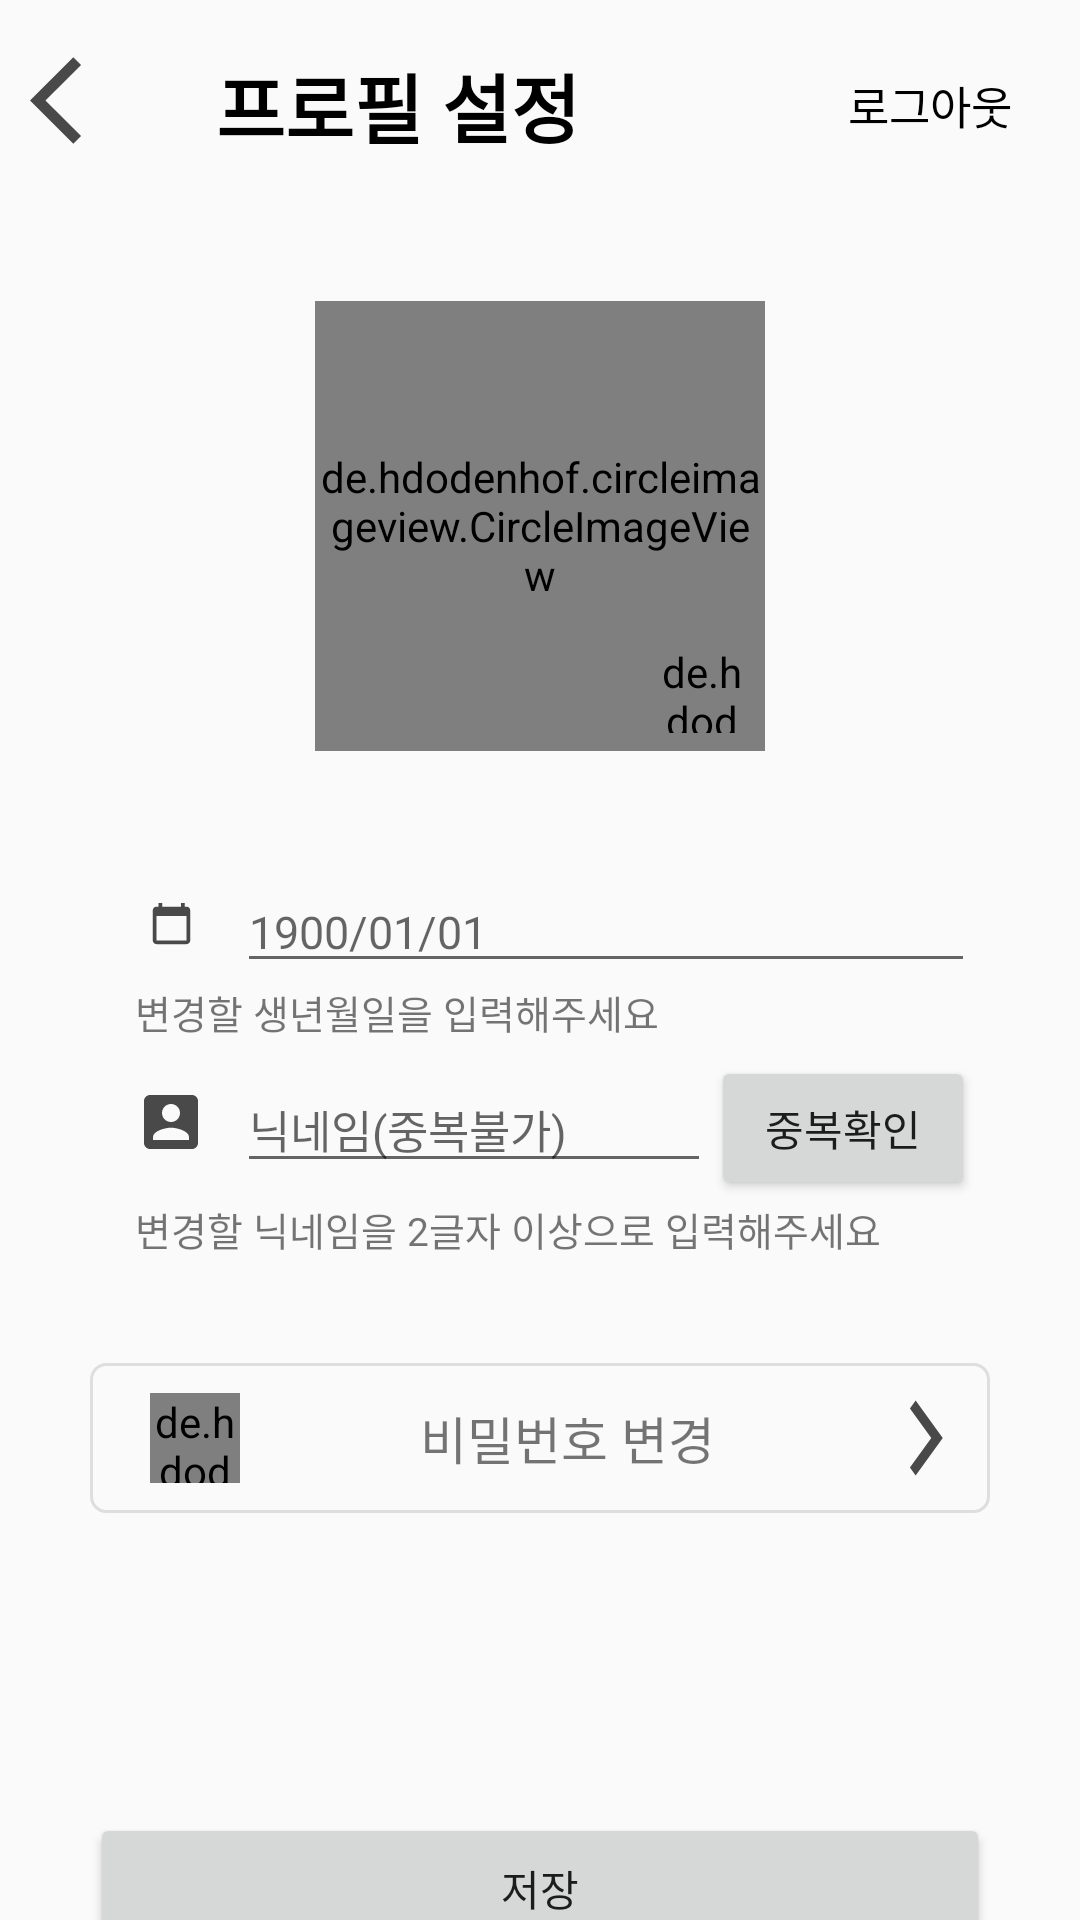

Named icons in this screenshot (1080×1920) and their bounding boxes, (x1, y1, x2, y2):
account box: (144, 1095, 198, 1149)
arrow back: (30, 57, 81, 144)
arrow forward: (910, 1400, 943, 1476)
calendar today: (152, 903, 191, 945)
